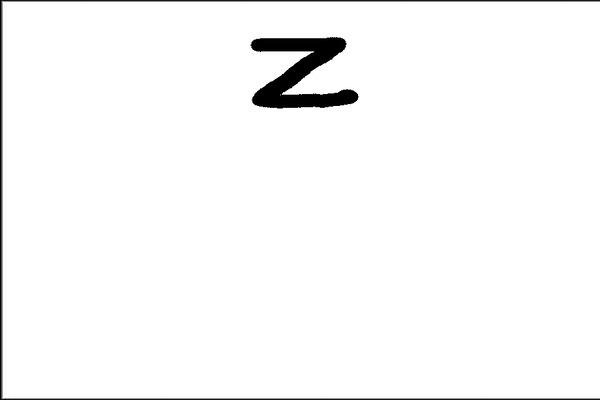Z: (243, 27, 367, 110)
